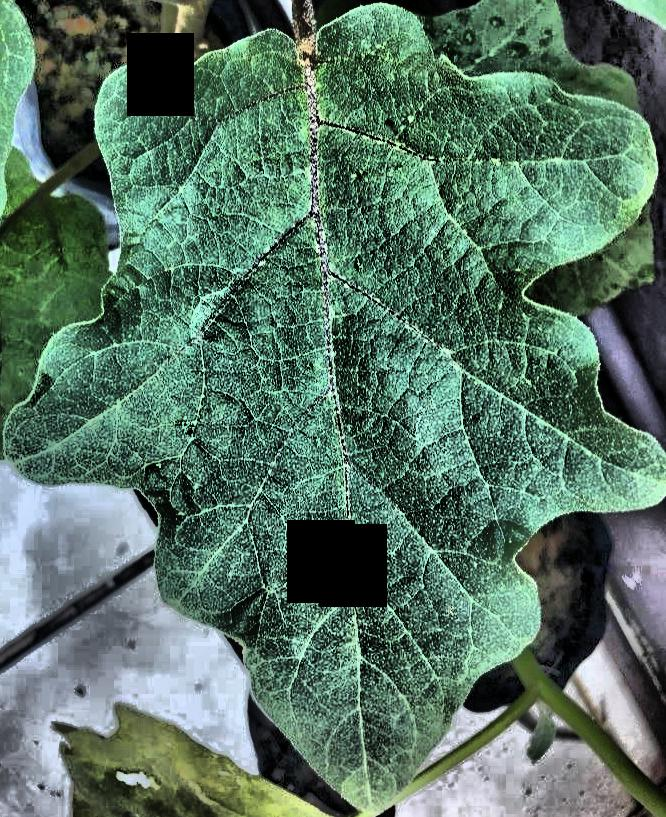HEALTHY: (1, 0, 666, 817)
